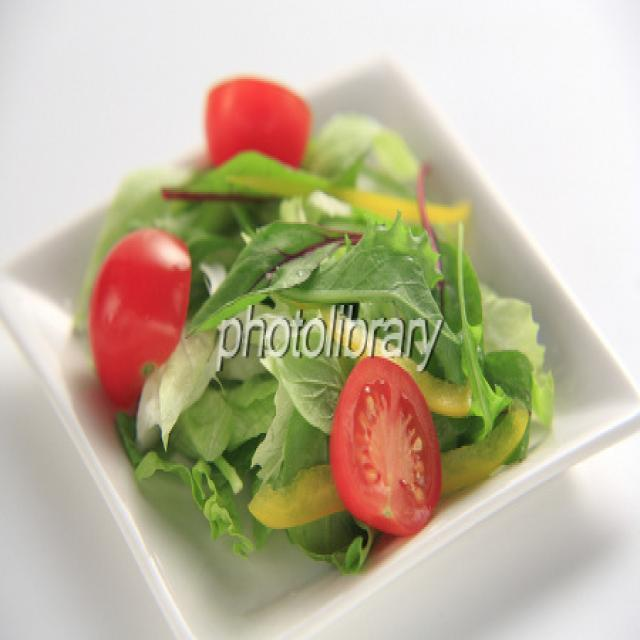Green Salad: (104, 119, 545, 517)
